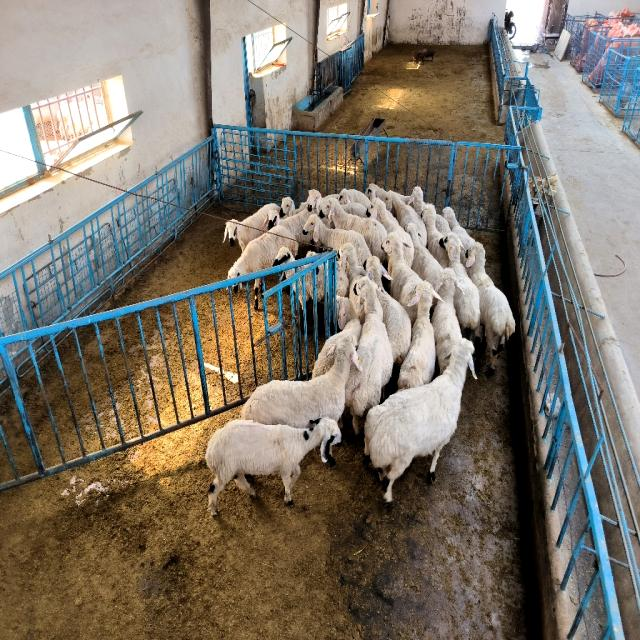sheep: (365, 338, 474, 502), (205, 418, 341, 515), (241, 333, 359, 428), (345, 277, 394, 434), (466, 242, 515, 374), (364, 257, 411, 366), (398, 280, 441, 389), (319, 198, 388, 262), (440, 233, 480, 338), (228, 225, 299, 278), (381, 232, 421, 324), (302, 215, 371, 264), (431, 268, 462, 374), (368, 197, 414, 267), (224, 203, 280, 251), (406, 225, 444, 288), (384, 192, 426, 246), (442, 207, 475, 264), (421, 203, 449, 268), (268, 208, 311, 247), (339, 188, 371, 208), (408, 187, 426, 215), (281, 197, 298, 217), (308, 190, 321, 213), (436, 215, 451, 234)
